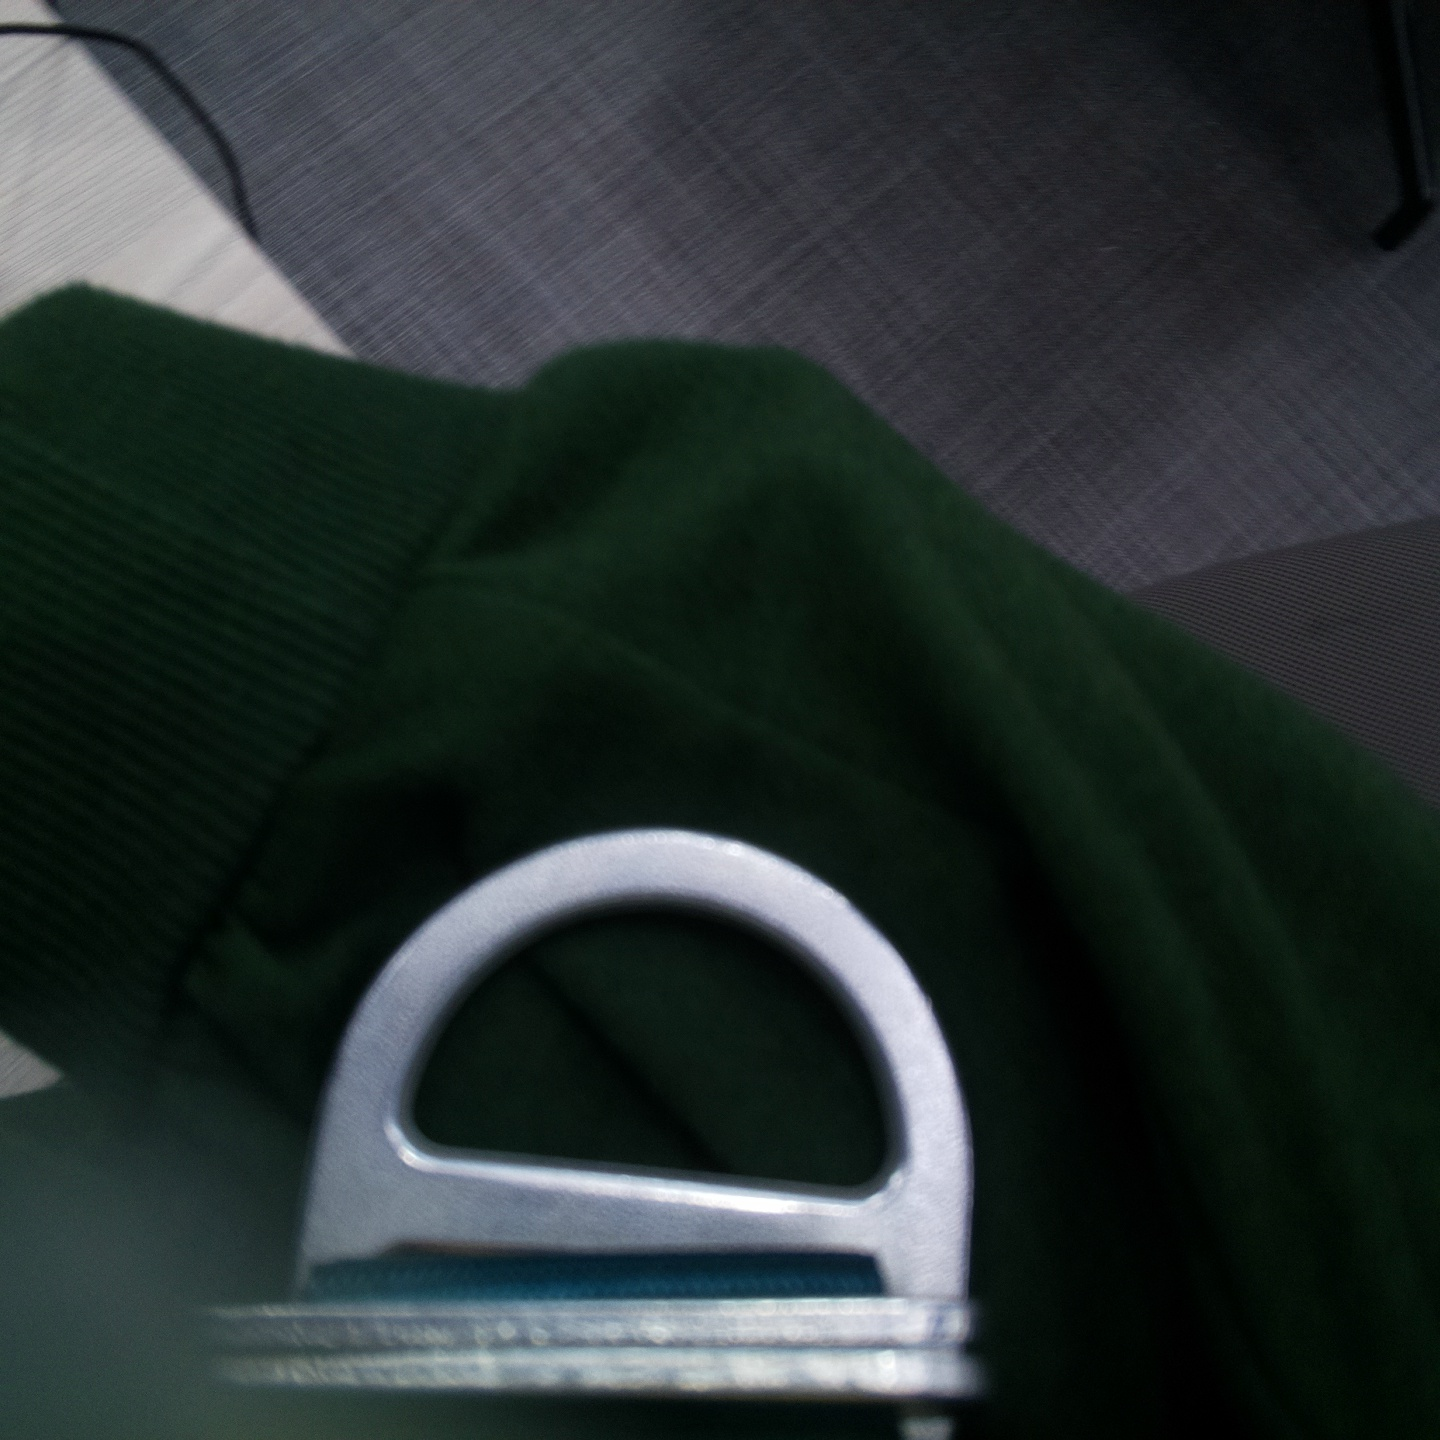UNSUCCESS: (278, 816, 1004, 1302)
